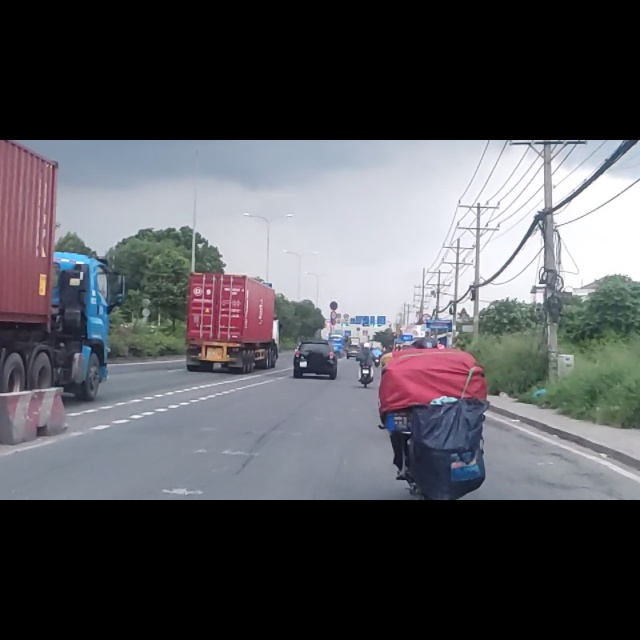bien_chi_dan: (329, 286, 339, 302)
